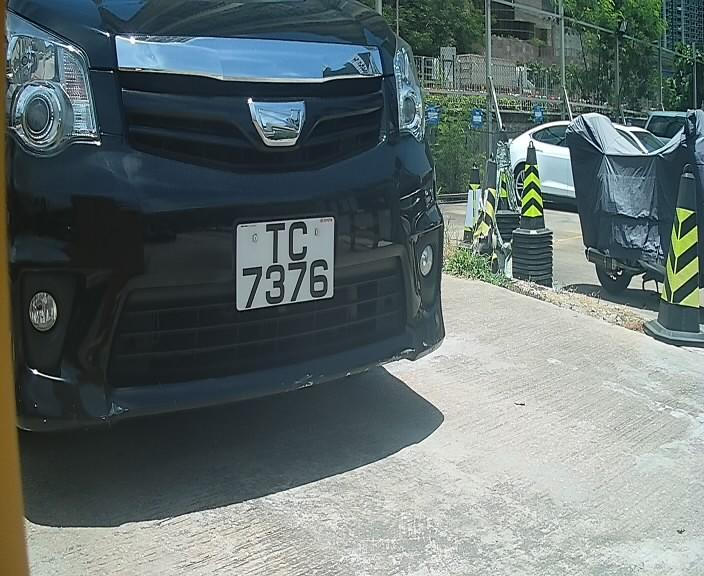License Plate: (224, 204, 340, 330)
